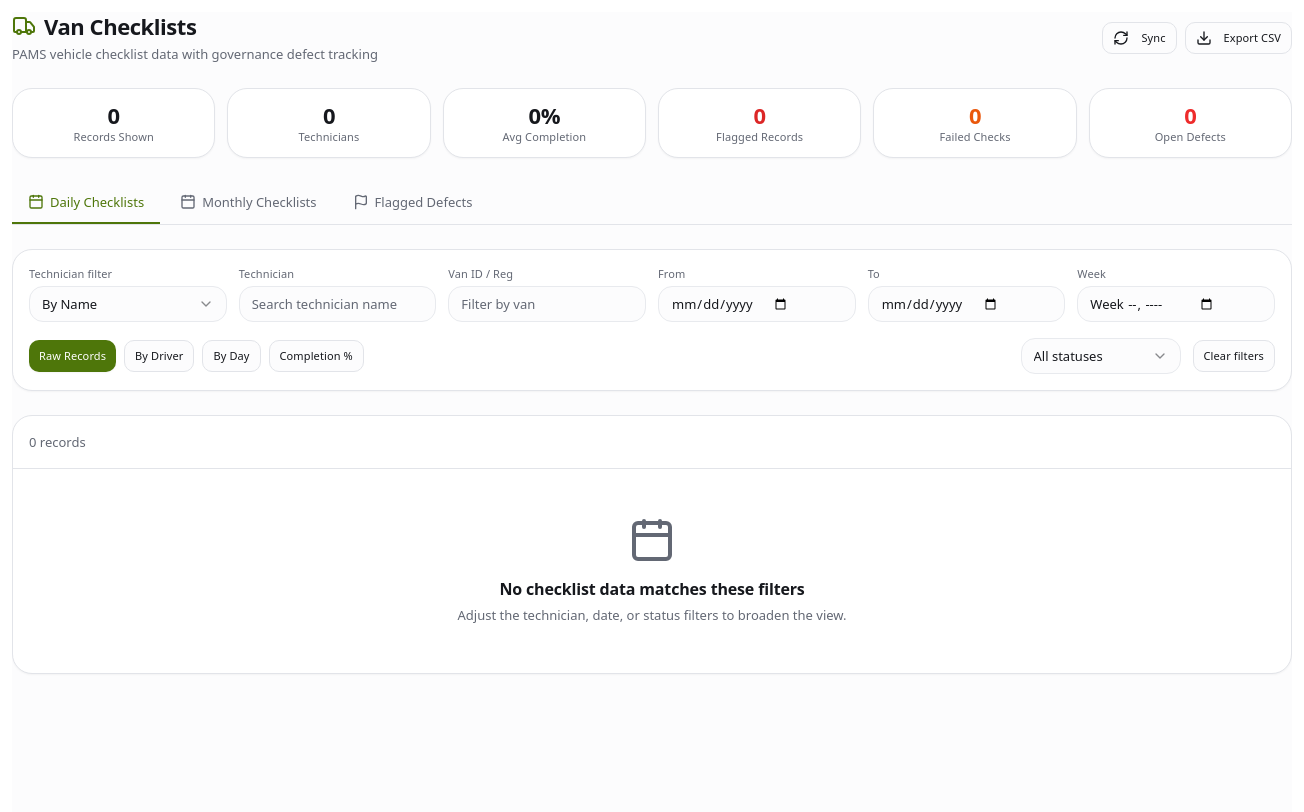
Scenario: VehicleChecklists van kit compliance panel (AM-VAN) › surfaces kit load failures honestly
The image size is (1304, 812).
Type "ZZ99ZZZ" into the field with placeholder "Filter by van" at (547,304), box [448,286,646,322]
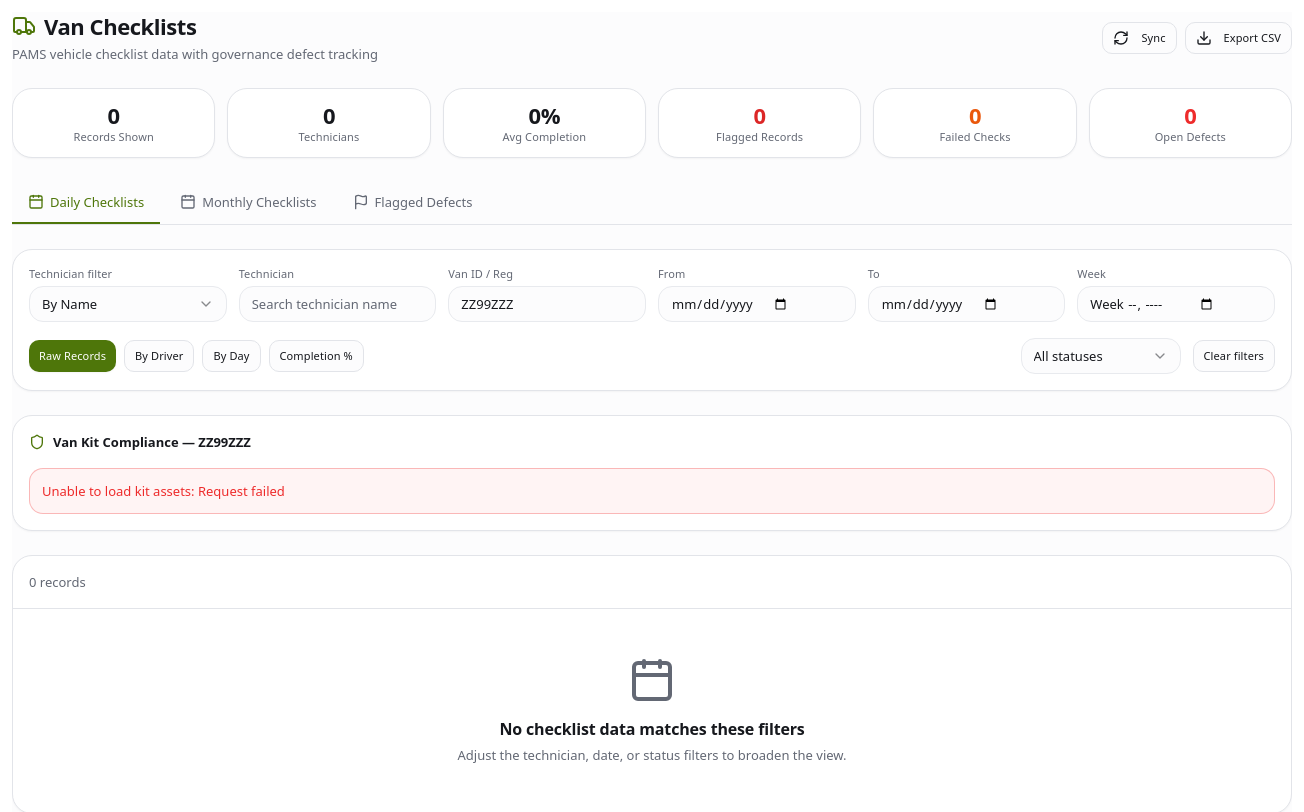
Result: the text with test id "van-kit-compliance-error" shows "Unable to load kit assets" at [42,482,198,500]
